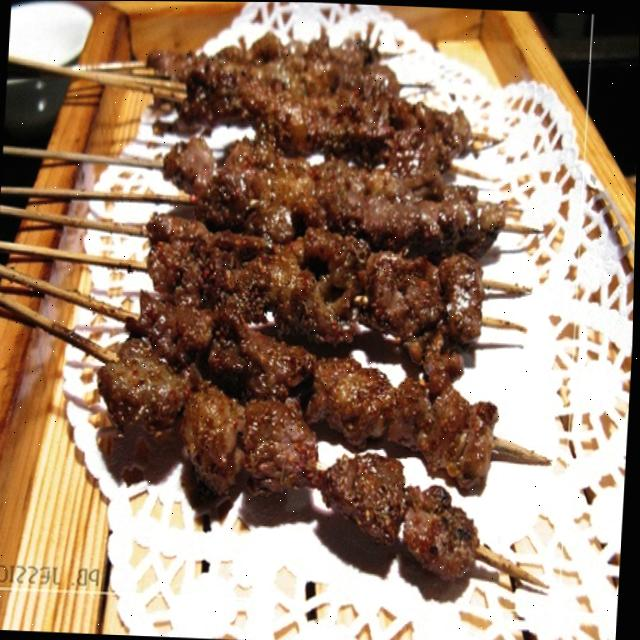烧串烤肉: (0, 14, 606, 635)
